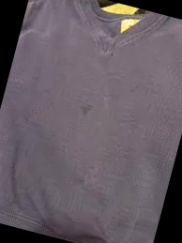oil: (75, 99, 96, 118)
